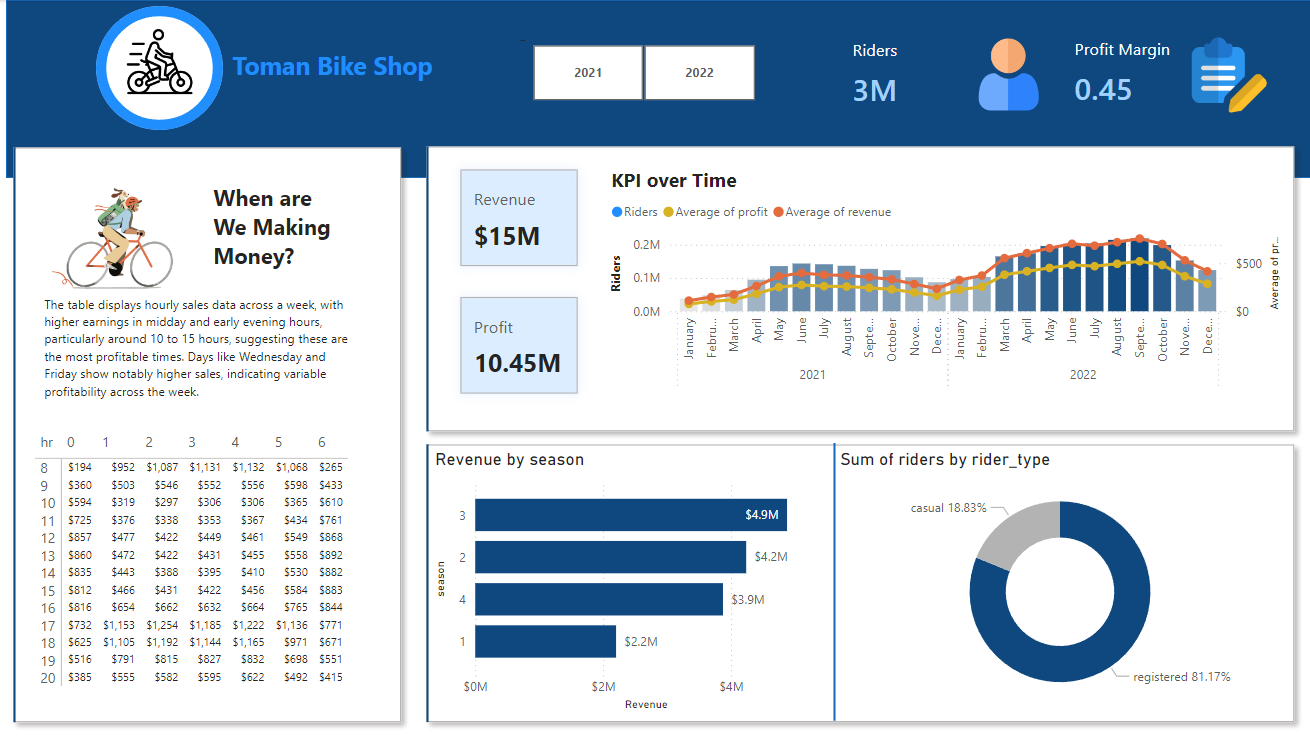

The page's visual inventory and layout, read from the dashboard file:
{"tool":"powerbi","page":{"name":"Page 1","canvas":[1280,720],"ordinal":0},"visuals":[{"type":"shape","box":[9.7,0,1270.3,173.1],"z":0},{"type":"cardVisual","fields":{"Data":["Min(Query1.riders)"]},"box":[0,126.4,411.4,593.3],"z":1000},{"type":"cardVisual","fields":{"Data":["Min(Query1.riders)"]},"box":[401.7,125.5,878.3,311.2],"z":2000},{"type":"cardVisual","fields":{"Data":["Min(Query1.riders)"]},"box":[401.7,415.3,878.3,304.4],"z":3000},{"type":"cardVisual","fields":{"Data":["Min(Query1.riders)"]},"box":[28.2,144,178,144],"z":4000},{"type":"pivotTable","fields":{"Values":["Avg(Query1.revenue)"],"Columns":["Query1.weekday"],"Rows":["Query1.hr"]},"box":[33.1,415.3,336.5,270.4],"z":5000},{"type":"textbox","box":[206.2,155.6,133.3,125.5],"z":6000},{"type":"textbox","box":[41.8,281.1,315.1,126.4],"z":7000},{"type":"lineClusteredColumnComboChart","title":"KPI over Time","fields":{"Category":["Query1.dteday.Variation.Date Hierarchy.Year","Query1.dteday.Variation.Date Hierarchy.Month","Query1.dteday.Variation.Date Hierarchy.Day"],"Y":["Sum(Query1.riders)"],"Y2":["Avg(Query1.profit)","Avg(Query1.revenue)"]},"box":[593.3,161.5,660.4,238.3],"z":8000},{"type":"clusteredBarChart","fields":{"Category":["Query1.season"],"Y":["Sum(Query1.revenue)"]},"box":[422.1,436.7,393.9,258.7],"z":9000},{"type":"donutChart","title":"Rider Type","fields":{"Category":["Query1.rider_type"],"Y":["Sum(Query1.riders)"]},"box":[816,436.7,437.7,258.7],"z":10000},{"type":"shape","box":[730.5,430.9,170.2,270.4],"z":11000},{"type":"cardVisual","title":"KPI over Time","fields":{"Data":["Sum(Query1.revenue)","Sum(Query1.profit)"]},"box":[435.7,148.8,146.9,250.9],"z":12000},{"type":"cardVisual","fields":{"Data":["Sum(Query1.riders)","Query1.Profit Margin"]},"box":[816,19.5,437.7,107],"z":13000},{"type":"shape","box":[97.3,5.8,123.5,120.6],"z":14000},{"type":"image","box":[117.7,19.5,83.6,80.7],"z":15000},{"type":"textbox","box":[224.7,41.8,217.9,44.7],"z":16000},{"type":"slicer","fields":{"Values":["Query1.Year"]},"box":[497,23.3,264.6,80.7],"z":17000}]}

Visuals, with their boxes in screenshot pixels (x1, y1, x2, y2), scaled from the page's 1280x720 canvas onto the 1310x740 screenshot:
shape: [10,0,1309,178]
cardVisual - Min(Query1.riders): [0,130,421,739]
cardVisual - Min(Query1.riders): [411,129,1309,449]
cardVisual - Min(Query1.riders): [411,427,1309,739]
cardVisual - Min(Query1.riders): [29,148,211,296]
pivotTable - Avg(Query1.revenue) x Query1.weekday: [34,427,378,705]
textbox: [211,160,347,289]
textbox: [43,289,365,419]
"KPI over Time" lineClusteredColumnComboChart: [607,166,1283,411]
clusteredBarChart - Query1.season x Sum(Query1.revenue): [432,449,835,715]
"Rider Type" donutChart: [835,449,1283,715]
shape: [748,443,922,721]
"KPI over Time" cardVisual: [446,153,596,411]
cardVisual - Sum(Query1.riders) x Query1.Profit Margin: [835,20,1283,130]
shape: [100,6,226,130]
image: [120,20,206,103]
textbox: [230,43,453,89]
slicer - Query1.Year: [509,24,779,107]
